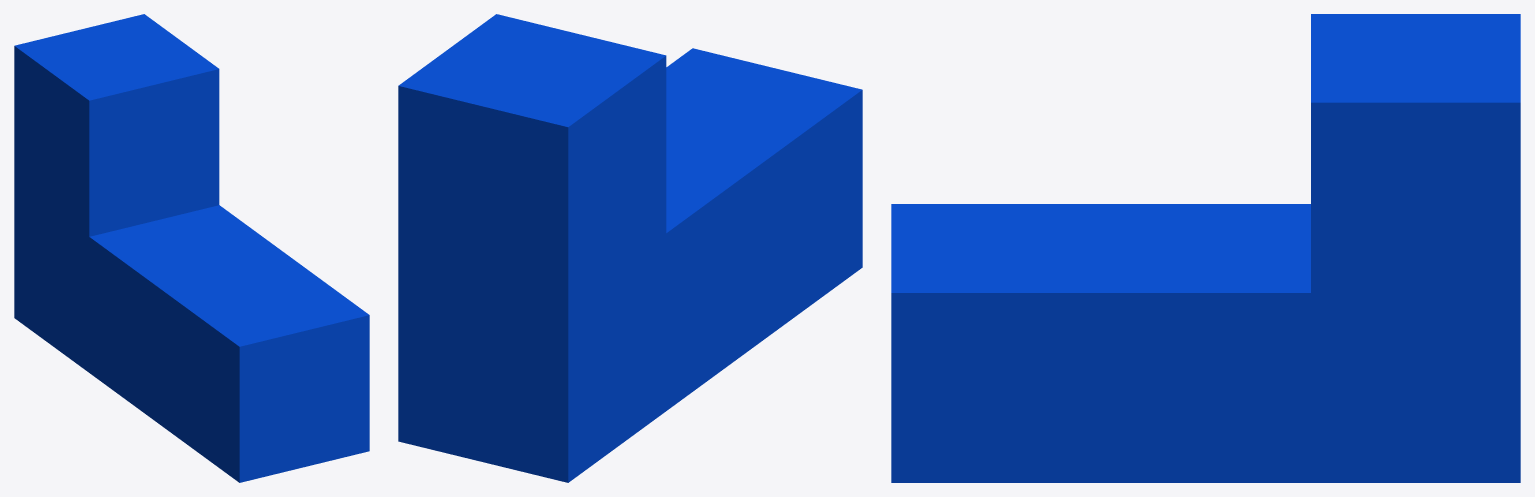
The model's file is tetris-blue.fbx.
The picture shows the model from 3 angles, left to right: view 1: azimuth 30°, elevation 25°; view 2: azimuth 150°, elevation 25°; view 3: azimuth 270°, elevation 25°; orthographic projection. The views are drawn at different scales.
Parts seen in each view (by area): view 1: cube1, cube4, cube2, cube3; view 2: cube4, cube3, cube1, cube2; view 3: cube1, cube2, cube4, cube3.
Boxes of the visible parts, x1=… form: cube1: x1=164, y1=260, x2=369, y2=482; cube4: x1=14, y1=14, x2=219, y2=236; cube2: x1=89, y1=205, x2=293, y2=427; cube3: x1=14, y1=182, x2=89, y2=372; cube4: x1=398, y1=14, x2=666, y2=304; cube3: x1=398, y1=234, x2=666, y2=482; cube1: x1=666, y1=48, x2=862, y2=338; cube2: x1=666, y1=137, x2=764, y2=410; cube1: x1=891, y1=204, x2=1100, y2=482; cube2: x1=1101, y1=204, x2=1310, y2=482; cube4: x1=1311, y1=14, x2=1520, y2=292; cube3: x1=1311, y1=293, x2=1520, y2=482.
Bounding box in the file's own units: 0.5 × 1 × 1.5.
